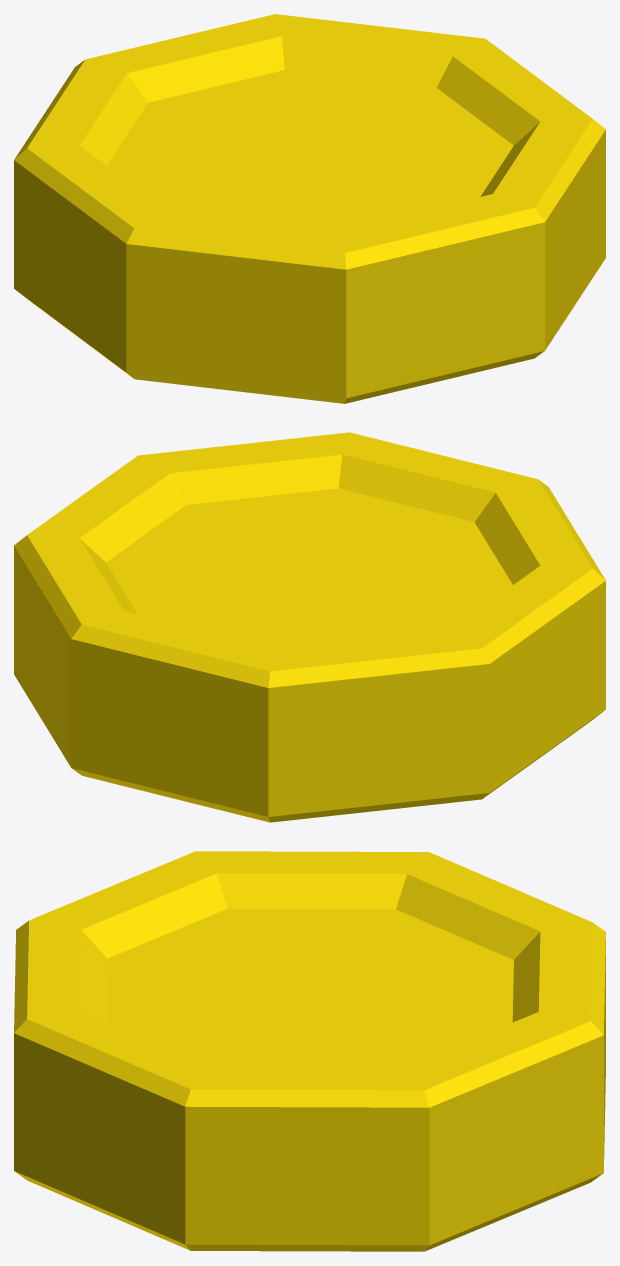
Rendered from coin.fbx.
3 views of the same model, one above another, from view 1: azimuth 30°, elevation 25°; view 2: azimuth 150°, elevation 25°; view 3: azimuth 270°, elevation 25° (orthographic). The views are drawn at different scales.
Parts seen in each view (by area): view 1: coin; view 2: coin; view 3: coin.
Boxes of the visible parts, x1,y1,x2,y2 form: coin: [14, 14, 605, 403]; coin: [14, 432, 605, 822]; coin: [14, 851, 605, 1251].
Bounding box in the file's own units: 6.65 × 2 × 6.65.
1 material, 1 textured.
